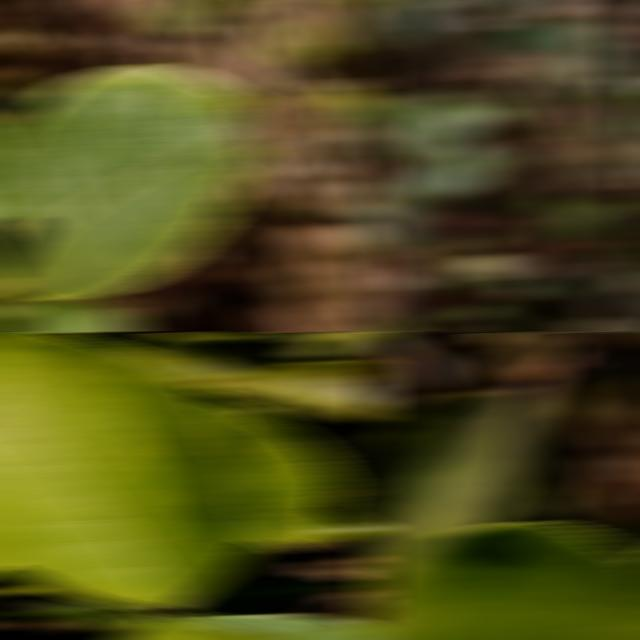Leaf: (0, 332, 266, 615), (0, 63, 267, 300), (366, 384, 550, 593), (366, 521, 640, 640), (208, 401, 346, 553), (198, 360, 388, 424), (171, 567, 362, 615), (170, 613, 388, 640), (397, 101, 489, 161), (407, 142, 496, 202), (1, 298, 145, 332), (16, 599, 157, 630), (366, 201, 415, 257)
